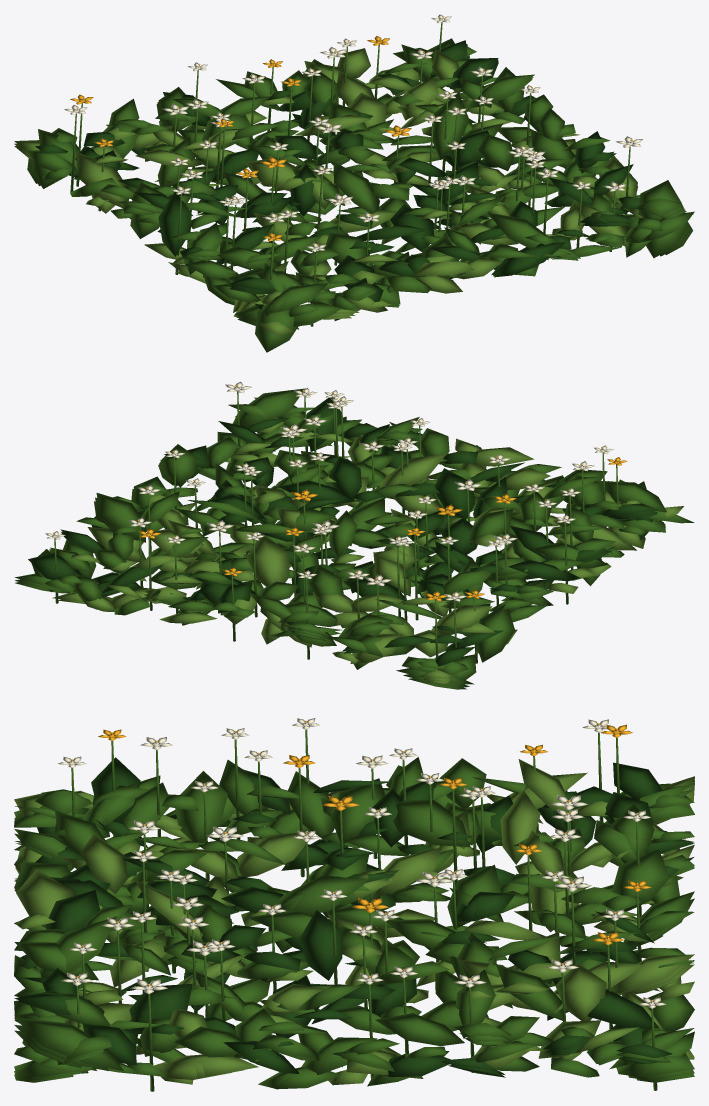
Rendered from MV_Flower_Groundcover_1x1m.fbx.
The picture shows the model from 3 angles, top to bottom: view 1: azimuth 30°, elevation 25°; view 2: azimuth 150°, elevation 25°; view 3: azimuth 270°, elevation 25°; orthographic projection. The views are drawn at different scales.
Visible parts, largest first — view 1: LOD0_Mesh, LOD2_Mesh, LOD1_Mesh; view 2: LOD0_Mesh, LOD1_Mesh, LOD2_Mesh; view 3: LOD0_Mesh, LOD1_Mesh, LOD2_Mesh.
Part boxes in pixels (left/top/right/bottom): LOD0_Mesh: left=14, top=14, right=694, bottom=352; LOD2_Mesh: left=14, top=38, right=689, bottom=351; LOD1_Mesh: left=14, top=36, right=691, bottom=351; LOD0_Mesh: left=15, top=390, right=693, bottom=689; LOD1_Mesh: left=15, top=388, right=692, bottom=687; LOD2_Mesh: left=14, top=381, right=682, bottom=684; LOD0_Mesh: left=14, top=718, right=694, bottom=1090; LOD1_Mesh: left=14, top=719, right=694, bottom=1089; LOD2_Mesh: left=14, top=757, right=694, bottom=1091.
Bounding box in the file's own units: 1 × 0.1976 × 1.
